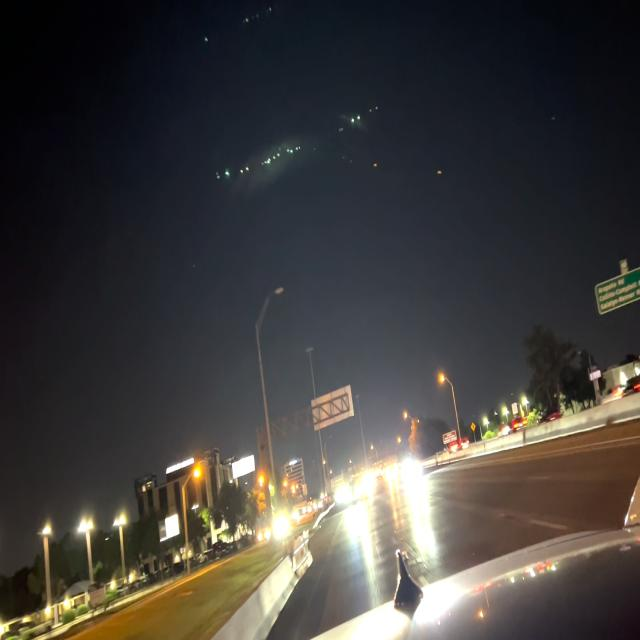back-of-sign: (312, 386, 355, 435)
